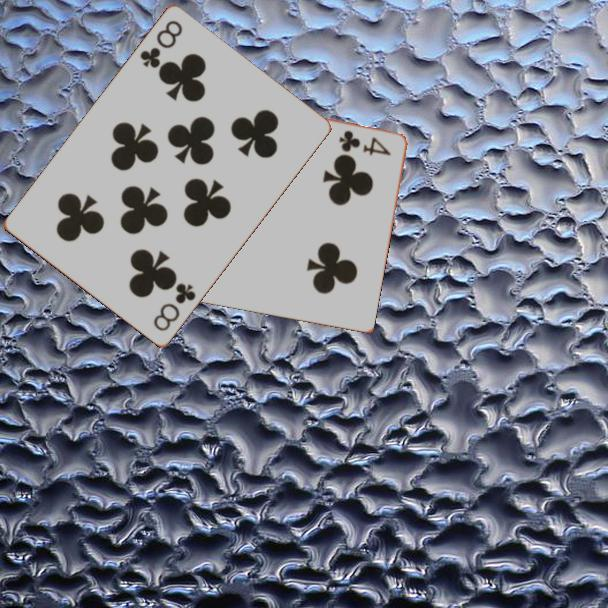c04: (335, 127, 393, 159)
c08: (136, 17, 186, 72), (150, 280, 199, 335)
